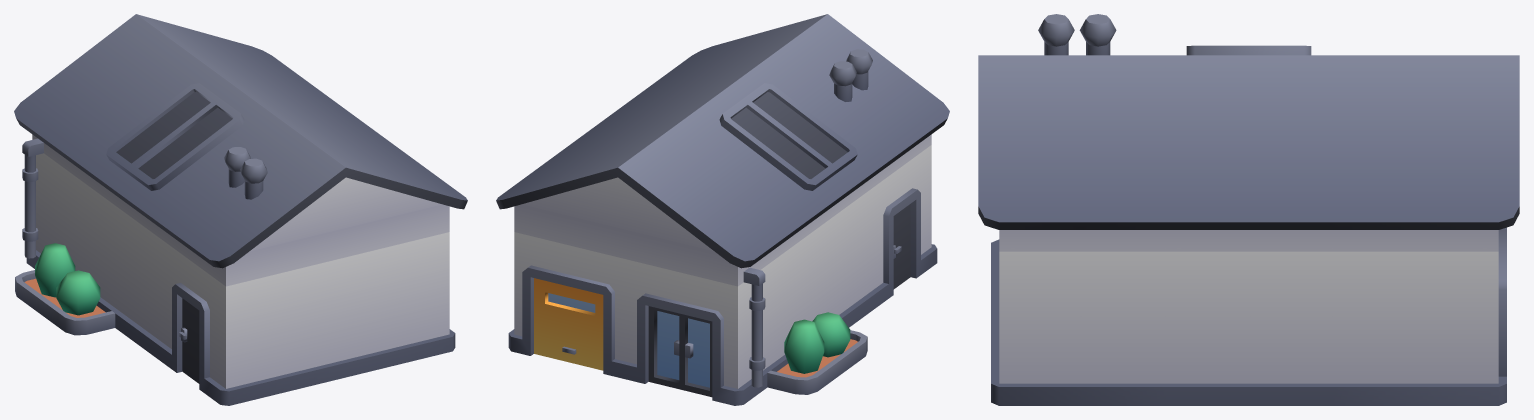
The model's file is building-i.fbx.
3 renders of one model, left to right at view 1: azimuth 30°, elevation 25°; view 2: azimuth 150°, elevation 25°; view 3: azimuth 270°, elevation 25°, orthographic. The views are drawn at different scales.
Parts seen in each view (by area): view 1: building-i; view 2: building-i; view 3: building-i.
Boxes of the visible parts, left/top/right/bottom form: building-i: left=14, top=14, right=467, bottom=405; building-i: left=496, top=14, right=949, bottom=405; building-i: left=978, top=14, right=1519, bottom=405.
Size of the model in its own units: 103 by 73.35 by 130.
Materials: 1 (1 with a texture image).
